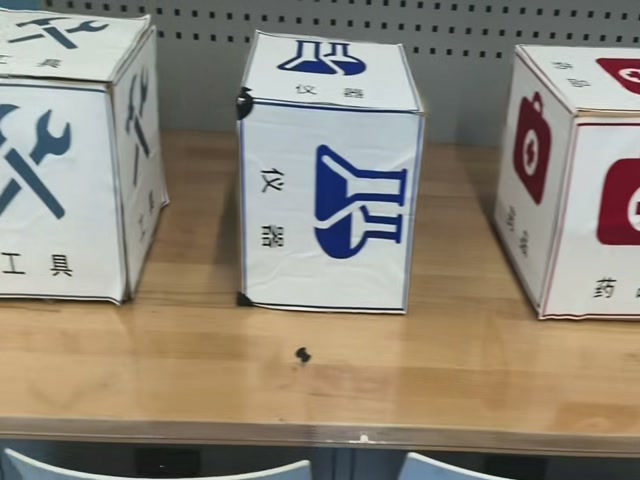Cube_ins: (237, 37, 422, 116), (519, 47, 639, 125)
Cube_tool: (0, 6, 153, 95)
